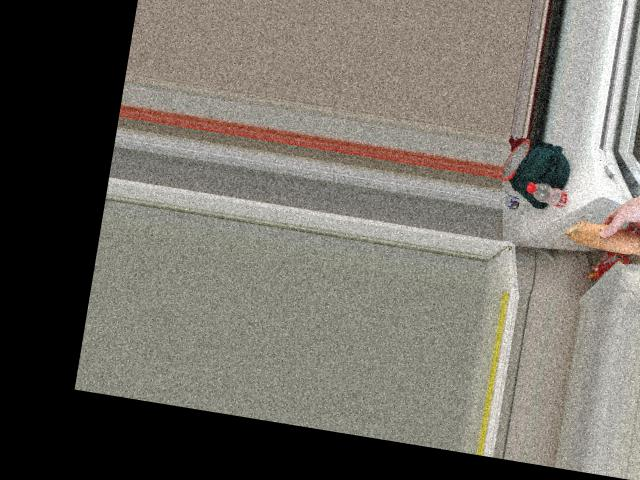sweet_potato: (570, 215, 640, 260)
